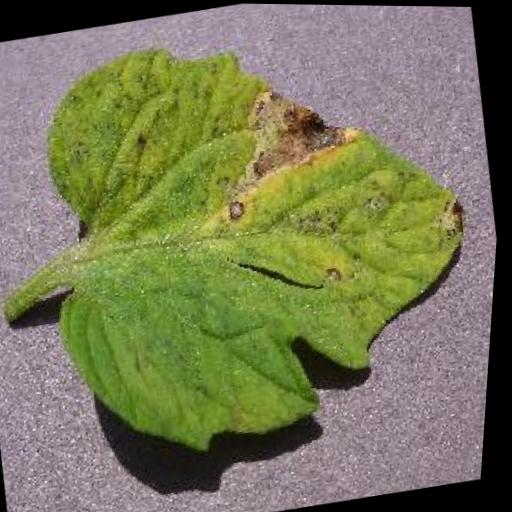Septoria: (12, 0, 512, 477)
